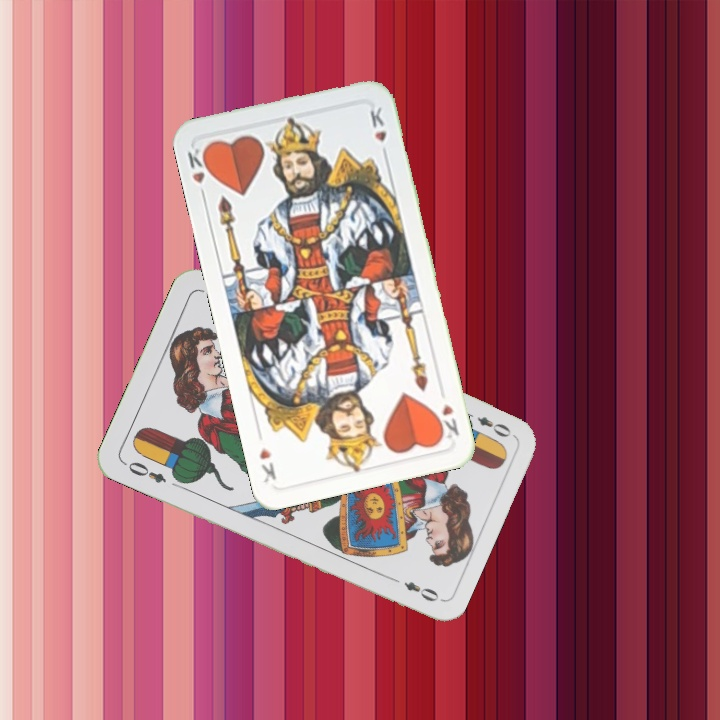EO: (458, 407, 514, 440), (119, 457, 169, 486)
HK: (183, 143, 215, 202), (432, 400, 462, 444)
